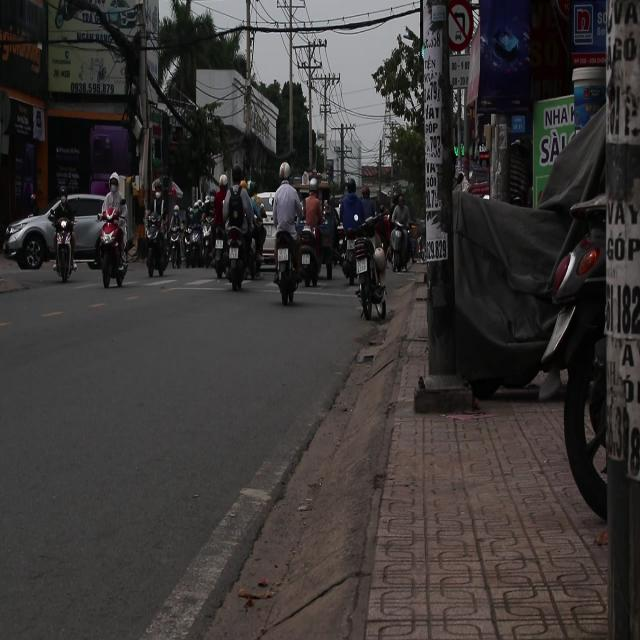car: (2, 191, 107, 276)
motorbike: (343, 219, 390, 322), (211, 193, 251, 295), (41, 203, 79, 290), (96, 216, 132, 288), (154, 190, 183, 276), (274, 228, 304, 306), (144, 213, 173, 279), (187, 199, 204, 268)
